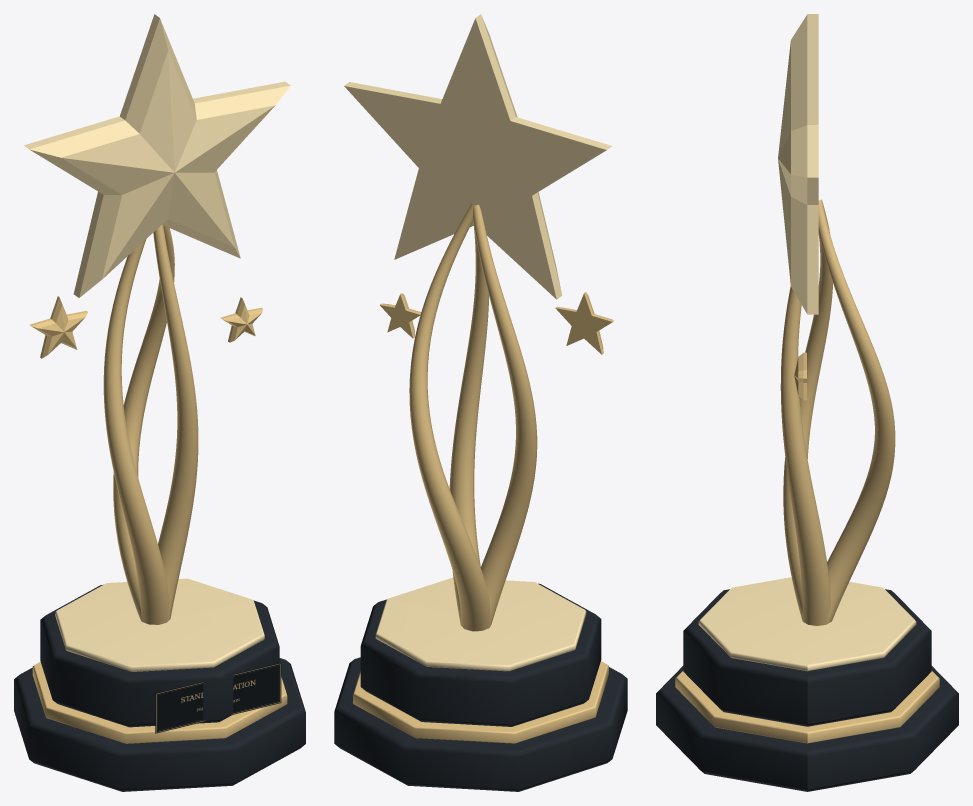
Rendered from gold-statuette.glb.
3 renders of one model, left to right at view 1: azimuth 30°, elevation 25°; view 2: azimuth 150°, elevation 25°; view 3: azimuth 270°, elevation 25°, orthographic.
Visible parts, largest first — view 1: Standing Ovation; view 2: Standing Ovation; view 3: Standing Ovation.
Boxes of the visible parts, x1,y1,x2,y2 form: Standing Ovation: (14, 14, 305, 791); Standing Ovation: (334, 14, 627, 791); Standing Ovation: (656, 14, 958, 791).
Bounding box in the file's own units: 0.1561 × 0.407 × 0.156.
4 materials, 1 textured.
